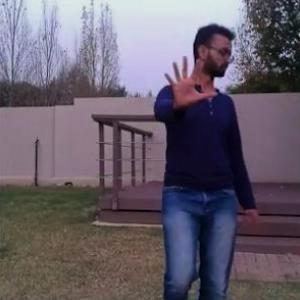follow_hand: (160, 46, 218, 111)
